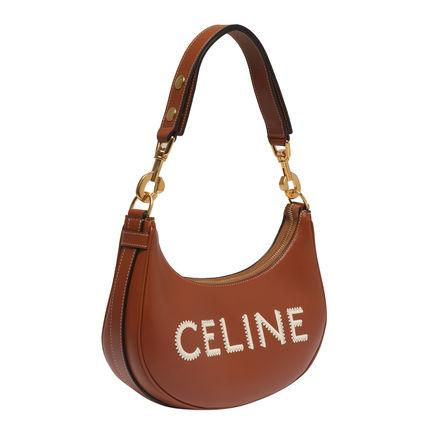CELINE: (174, 307, 309, 361)
